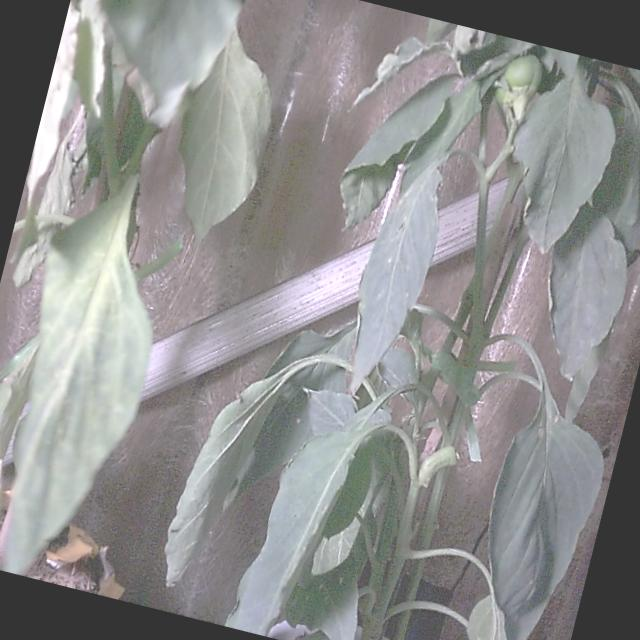Leaf: (3, 176, 151, 572), (488, 392, 602, 639), (350, 163, 441, 390), (179, 31, 270, 244), (513, 74, 614, 252), (101, 0, 240, 124), (549, 209, 626, 379), (466, 595, 504, 639)
